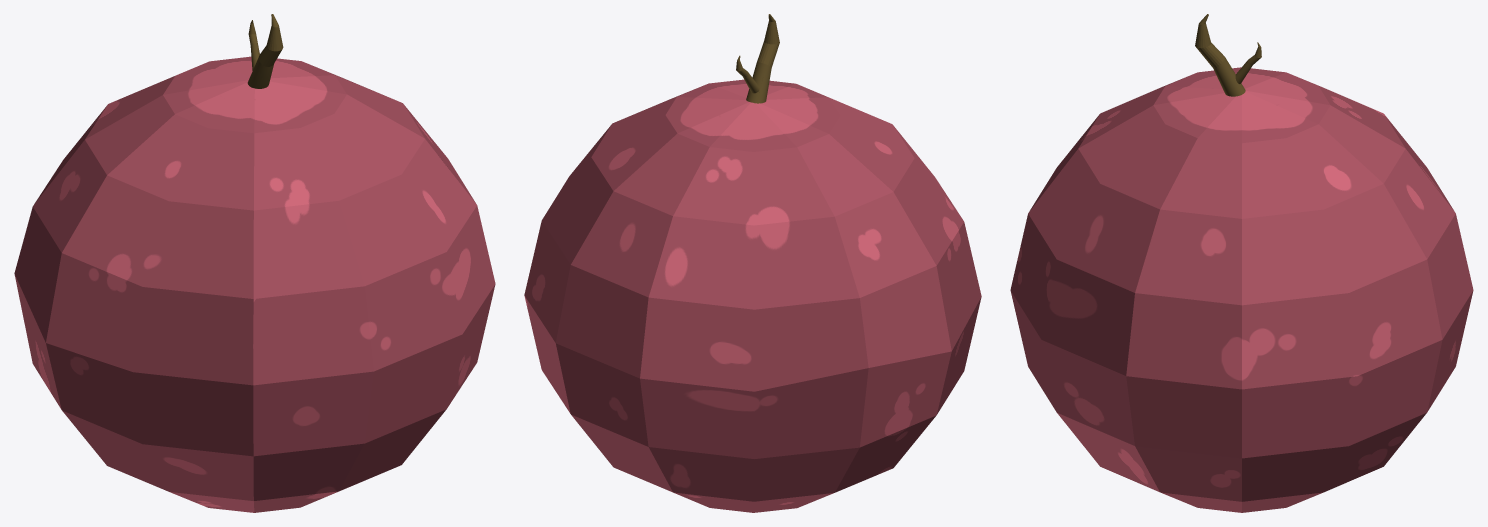
Rendered from appeltjeeee fixed.fbx.
3 views of the same model, side by side, from view 1: azimuth 30°, elevation 25°; view 2: azimuth 150°, elevation 25°; view 3: azimuth 270°, elevation 25° (orthographic). The views are drawn at different scales.
Visible parts, largest first — view 1: appel; view 2: appel; view 3: appel.
Part boxes in pixels (x1,y1,x2,y2): appel: (14,14,495,512); appel: (524,14,981,512); appel: (1010,14,1473,512).
Bounding box in the file's own units: 324 × 362 × 319.
